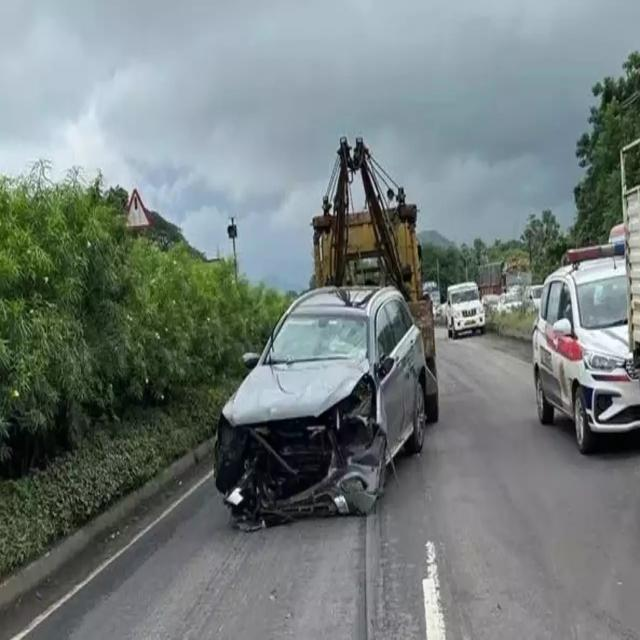crush: (213, 373, 388, 531)
